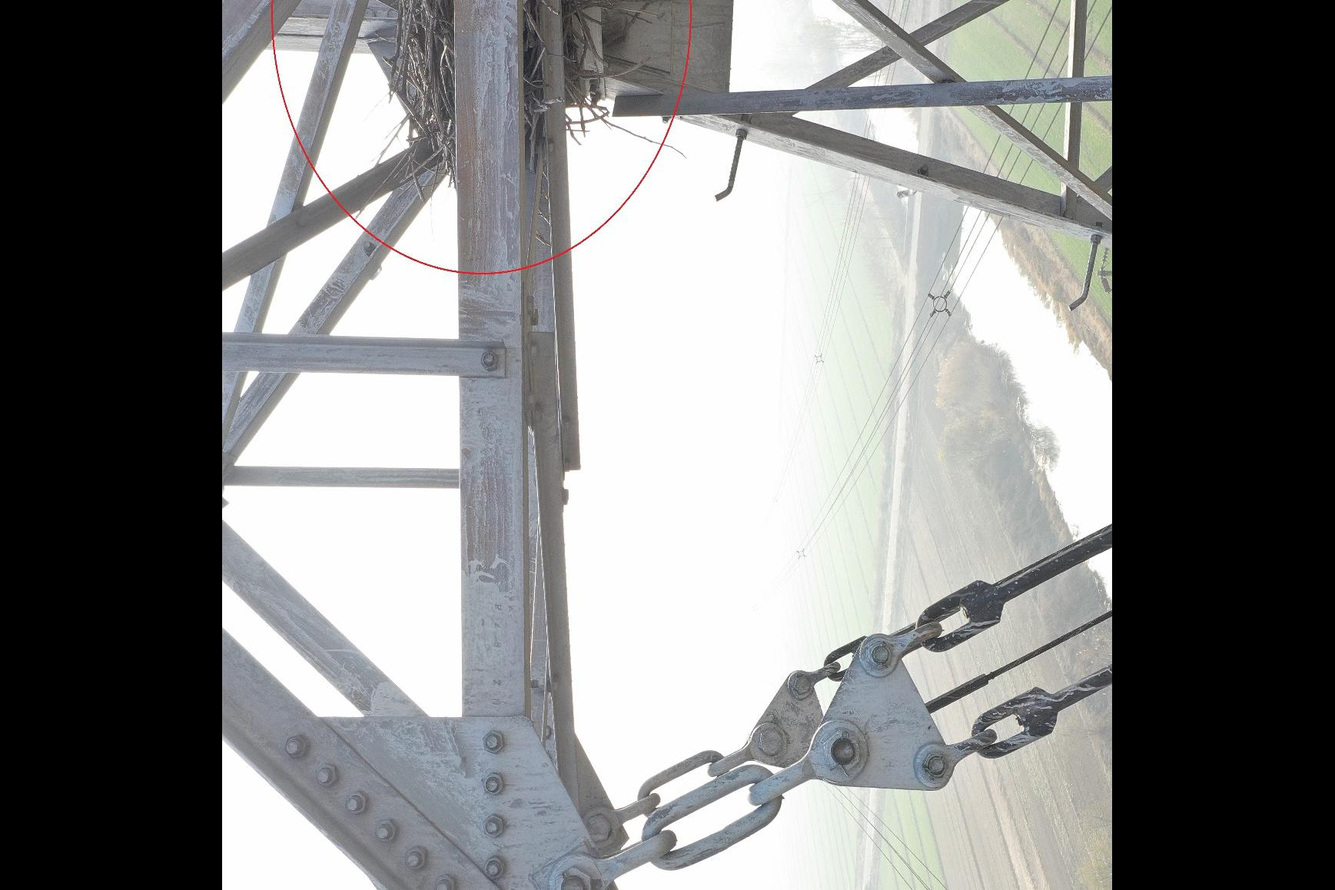nest: (374, 1, 650, 191)
